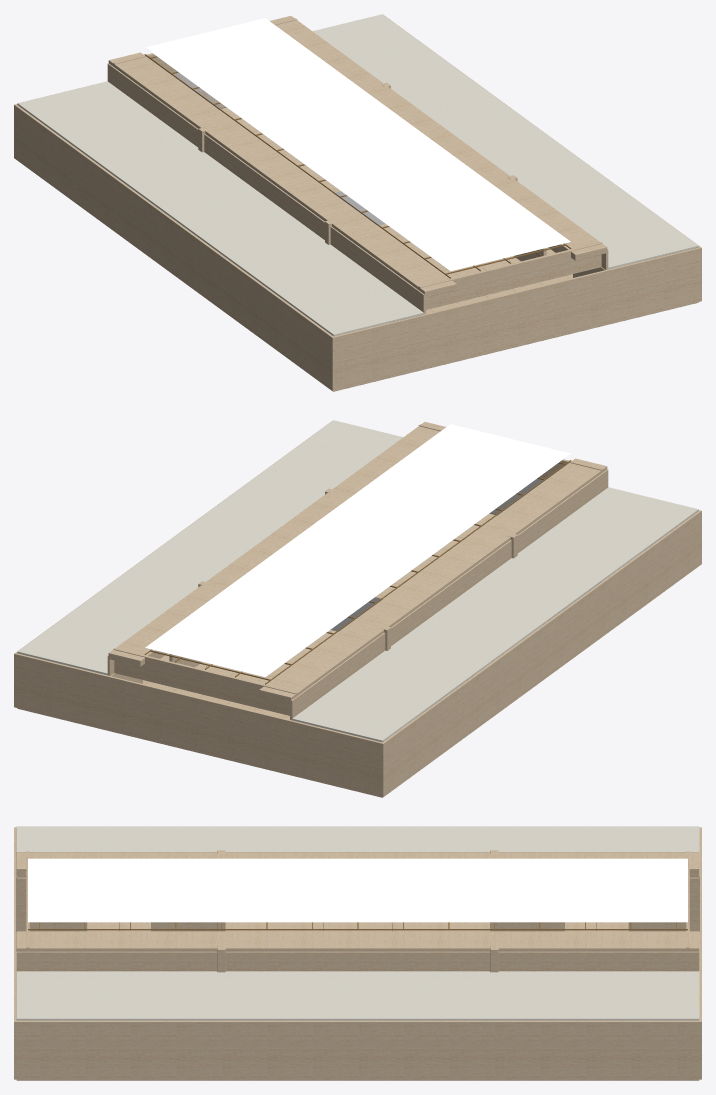
Rendered from pavilion-desktop.glb.
The picture shows the model from 3 angles, top to bottom: view 1: azimuth 30°, elevation 25°; view 2: azimuth 150°, elevation 25°; view 3: azimuth 270°, elevation 25°; orthographic projection. The views are drawn at different scales.
Parts seen in each view (by area): view 1: OVERHEAD_Ceiling finish, OVERHEAD_Rooflight diffuse sky, OVERHEAD_Cut limestone, SHELL_south, SHELL_west, SHELL_Floor, OVERHEAD_Patinated bronze; view 2: OVERHEAD_Ceiling finish, OVERHEAD_Rooflight diffuse sky, OVERHEAD_Cut limestone, SHELL_north, SHELL_west, SHELL_Floor, OVERHEAD_Patinated bronze; view 3: OVERHEAD_Ceiling finish, OVERHEAD_Rooflight diffuse sky, SHELL_east, OVERHEAD_Cut limestone, SHELL_Floor, ARCHITECTURE_Cut limestone, OVERHEAD_Patinated bronze, SHELL_north, SHELL_south.
Boxes of the visible parts, x1,y1,x2,y2 form: OVERHEAD_Ceiling finish: [17, 14, 698, 336]; OVERHEAD_Rooflight diffuse sky: [145, 18, 570, 271]; OVERHEAD_Cut limestone: [107, 16, 608, 314]; SHELL_south: [331, 247, 701, 391]; SHELL_west: [15, 105, 333, 389]; SHELL_Floor: [80, 107, 698, 391]; OVERHEAD_Patinated bronze: [144, 54, 571, 278]; OVERHEAD_Ceiling finish: [17, 420, 698, 742]; OVERHEAD_Rooflight diffuse sky: [145, 424, 570, 677]; OVERHEAD_Cut limestone: [107, 422, 608, 720]; SHELL_north: [14, 653, 384, 797]; SHELL_west: [382, 511, 700, 795]; SHELL_Floor: [17, 513, 635, 797]; OVERHEAD_Patinated bronze: [144, 460, 571, 684]; OVERHEAD_Ceiling finish: [16, 826, 699, 1020]; OVERHEAD_Rooflight diffuse sky: [28, 858, 687, 922]; SHELL_east: [16, 1020, 699, 1079]; OVERHEAD_Cut limestone: [16, 850, 699, 972]; SHELL_Floor: [16, 922, 699, 1080]; ARCHITECTURE_Cut limestone: [17, 877, 698, 931]; OVERHEAD_Patinated bronze: [28, 922, 687, 930]; SHELL_north: [699, 827, 701, 1079]; SHELL_south: [14, 827, 16, 1079].
Size of what is drawn, in the model's own units: 40.48 by 9.11 by 60.48.
8 materials, 3 textured.
